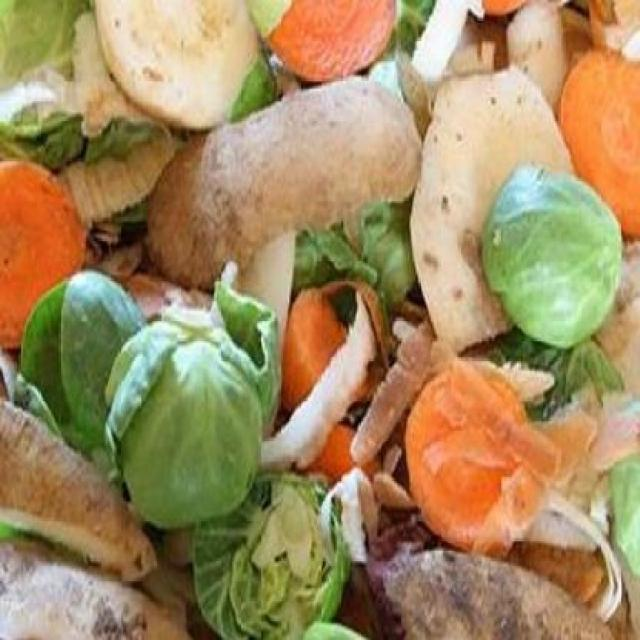garbage: (0, 2, 638, 638)
